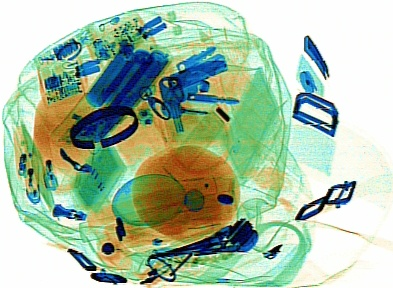knife: (165, 59, 234, 90)
lighter: (36, 130, 59, 189), (19, 141, 39, 202)
powerbank: (49, 45, 170, 144)
